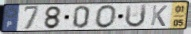0: (72, 5, 92, 30)
7: (22, 5, 40, 31)
8: (43, 5, 62, 30)
K: (149, 5, 169, 28)
O: (95, 4, 119, 29)
U: (124, 4, 148, 29)
